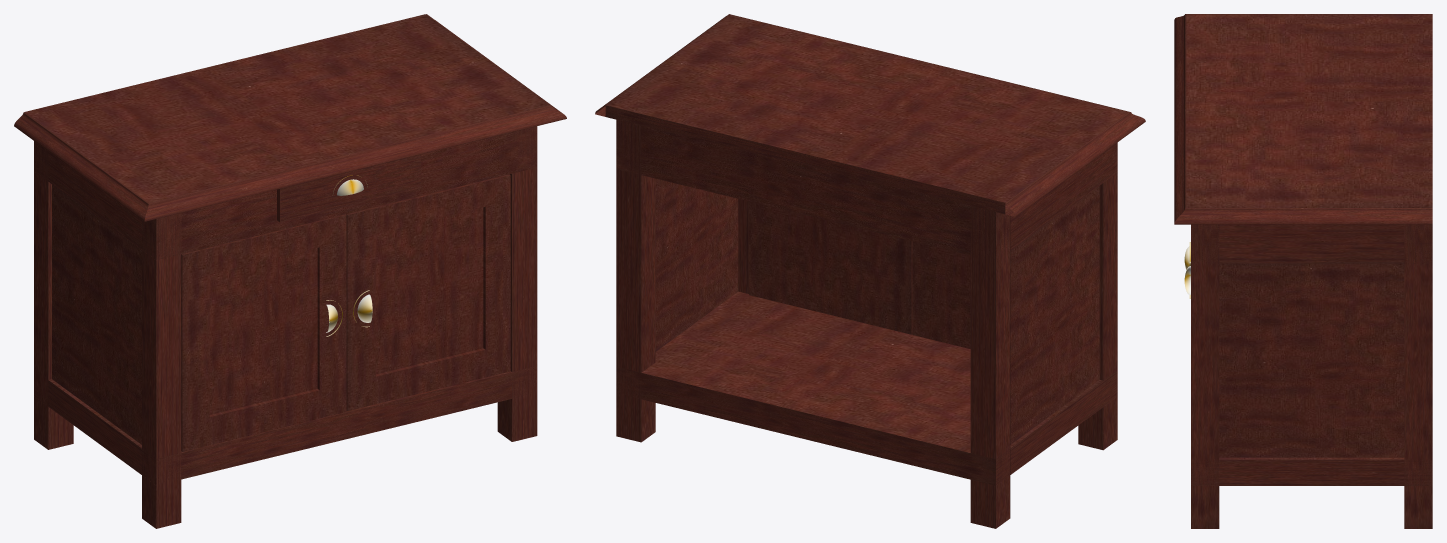
Rendered from sweethome3d-contributions-dresser-243.glb.
3 renders of one model, left to right at view 1: azimuth 30°, elevation 25°; view 2: azimuth 150°, elevation 25°; view 3: azimuth 270°, elevation 25°, orthographic.
Parts seen in each view (by area): view 1: TopTable_scale_22_22, DoorL_scale_10_10, DoorL1_scale_11_11, pCube2_13_13, TopFront_8_8, BottomFront_9_9, LegF1_4_4, LegF2_5_5, Trim1_23_23, LegB1_6_6, pCube1_12_12, Trim3_25_25; view 2: TopTable_scale_22_22, BottomFront_9_9, TopFront_8_8, pCube2_13_13, DoorL1_scale_11_11, LegB1_6_6, LegB2_7_7, pCube3_14_14, DoorL_scale_10_10, LegF1_4_4, Trim3_25_25, LegF2_5_5; view 3: TopTable_scale_22_22, pCube3_14_14, LegF2_5_5, LegB2_7_7, TopFront_8_8, BottomFront_9_9, Trim2_scale_24_24, Trim1_23_23.
Part boxes in pixels (x1,y1,x2,y2): TopTable_scale_22_22: (25, 14, 549, 202); DoorL_scale_10_10: (181, 214, 346, 451); DoorL1_scale_11_11: (346, 174, 510, 410); pCube2_13_13: (52, 184, 141, 444); TopFront_8_8: (34, 127, 537, 259); BottomFront_9_9: (34, 366, 536, 481); LegF1_4_4: (142, 213, 181, 528); LegF2_5_5: (497, 126, 537, 441); Trim1_23_23: (144, 105, 566, 221); LegB1_6_6: (34, 141, 73, 449); pCube1_12_12: (277, 154, 420, 222); Trim3_25_25: (14, 112, 148, 221); TopTable_scale_22_22: (605, 14, 1128, 214); BottomFront_9_9: (616, 291, 1117, 485); TopFront_8_8: (616, 120, 1117, 255); pCube2_13_13: (1010, 186, 1099, 444); DoorL1_scale_11_11: (749, 201, 912, 334); LegB1_6_6: (970, 204, 1009, 528); LegB2_7_7: (616, 119, 655, 442); pCube3_14_14: (655, 179, 738, 351); DoorL_scale_10_10: (912, 241, 970, 348); LegF1_4_4: (1078, 142, 1117, 450); Trim3_25_25: (1005, 112, 1145, 216); LegF2_5_5: (738, 199, 748, 293); TopTable_scale_22_22: (1186, 14, 1432, 207); pCube3_14_14: (1219, 263, 1404, 457); LegF2_5_5: (1191, 224, 1219, 528); LegB2_7_7: (1404, 224, 1432, 528); TopFront_8_8: (1191, 224, 1432, 263); BottomFront_9_9: (1191, 457, 1432, 485); Trim2_scale_24_24: (1174, 208, 1432, 224); Trim1_23_23: (1174, 14, 1186, 222).
Size of the model in its own units: 117 by 87.62 by 62.9.
2 materials, 2 textured.
